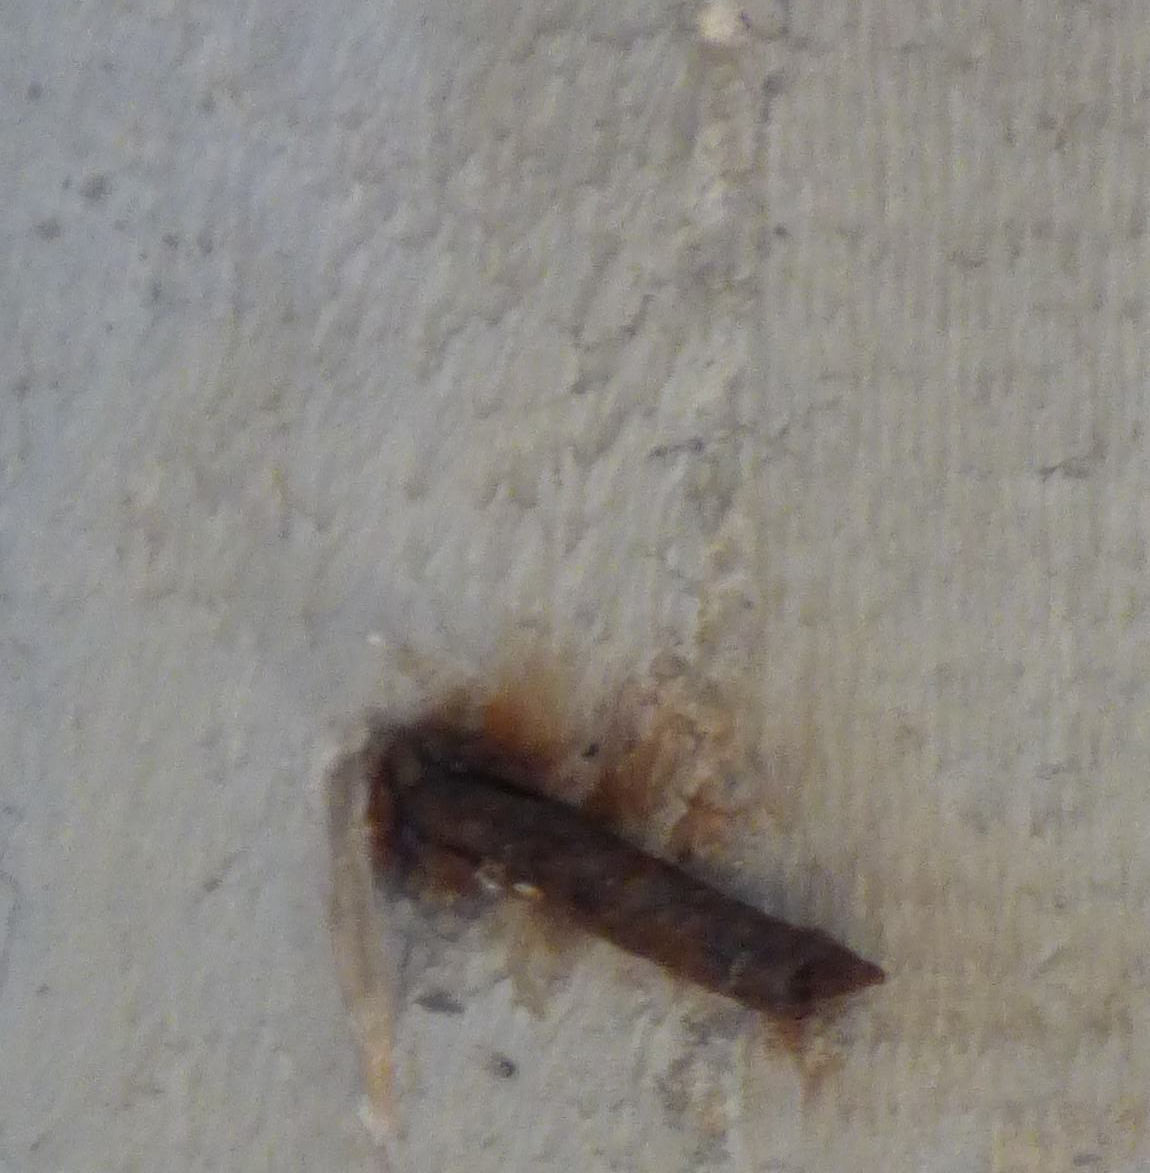Exposed reinforcement: (407, 771, 888, 1013)
